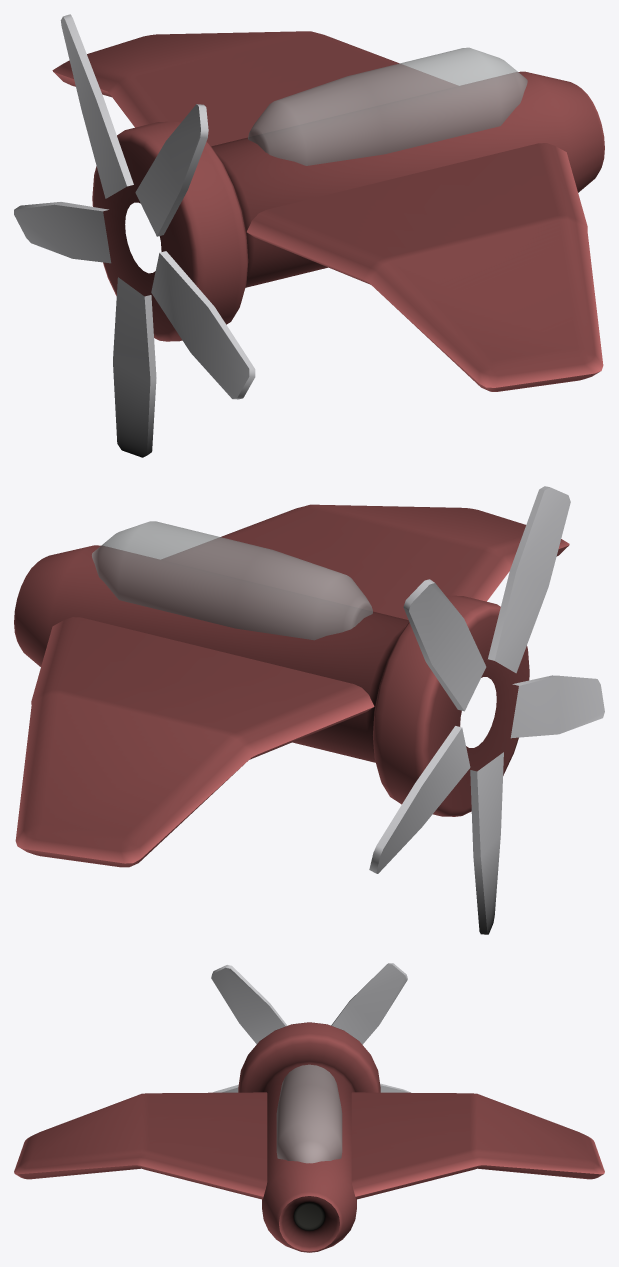
File: mob.glb
3 renders of one model, top to bottom at view 1: azimuth 30°, elevation 25°; view 2: azimuth 150°, elevation 25°; view 3: azimuth 270°, elevation 25°, orthographic. The views are drawn at different scales.
Parts seen in each view (by area): view 1: mob; view 2: mob; view 3: mob.
Boxes of the visible parts, x1=… form: mob: x1=14, y1=14, x2=604, y2=457; mob: x1=14, y1=486, x2=604, y2=934; mob: x1=14, y1=963, x2=604, y2=1252.
Size of the model in its own units: 74.59 by 61.4 by 129.
